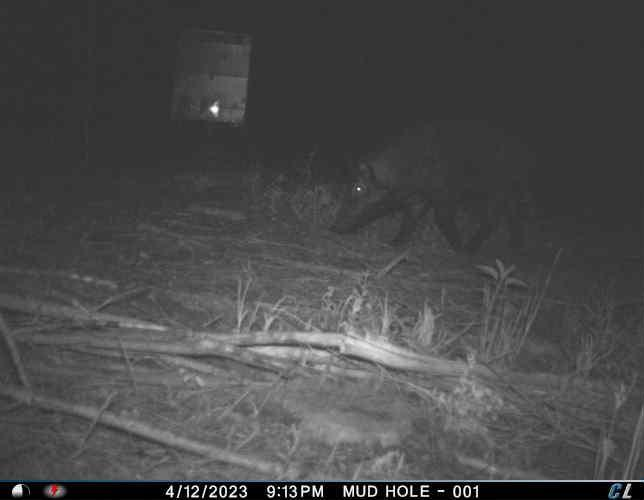Hog: (331, 114, 544, 256)
